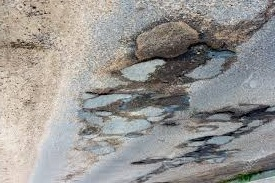pothole: (133, 19, 200, 61), (197, 21, 253, 49), (136, 83, 188, 104), (163, 60, 204, 81), (212, 105, 268, 118), (106, 105, 142, 118), (85, 84, 116, 97), (184, 133, 215, 144), (131, 156, 165, 163), (158, 118, 178, 129)
